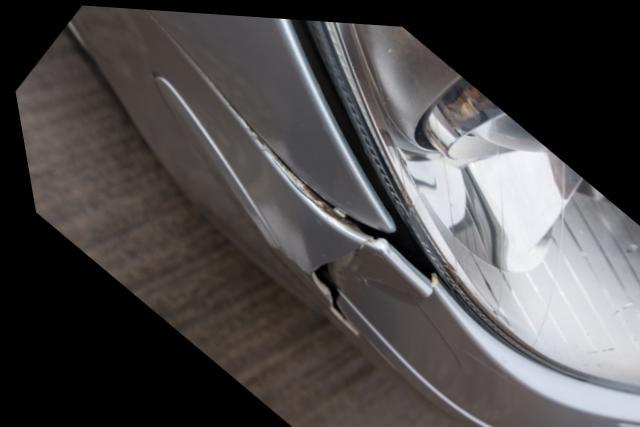crack: (303, 233, 369, 323)
dislocated part: (140, 8, 426, 295)
